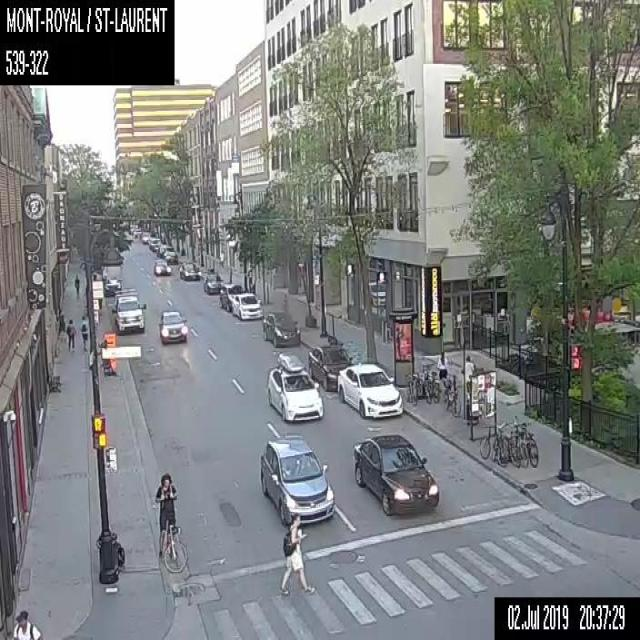construction: (104, 331, 116, 375)
cyclist: (155, 473, 187, 575)
pedestrian: (280, 513, 312, 595), (9, 608, 43, 639), (65, 315, 77, 352), (78, 313, 89, 353), (436, 349, 449, 379), (464, 355, 474, 393), (74, 275, 79, 297)
vehicle: (254, 430, 336, 524), (351, 432, 438, 519), (335, 359, 407, 421), (265, 351, 322, 424), (309, 340, 357, 382), (111, 289, 147, 333), (260, 311, 302, 347), (156, 306, 187, 342), (232, 290, 263, 319), (201, 271, 223, 294), (102, 274, 123, 298), (218, 284, 238, 309), (178, 262, 200, 284), (150, 256, 172, 276), (162, 248, 180, 266)
